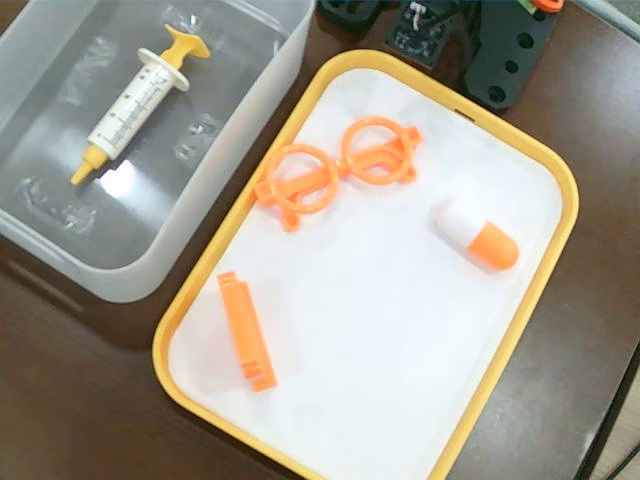pill: (434, 197, 521, 275)
syringe: (69, 23, 211, 187)
